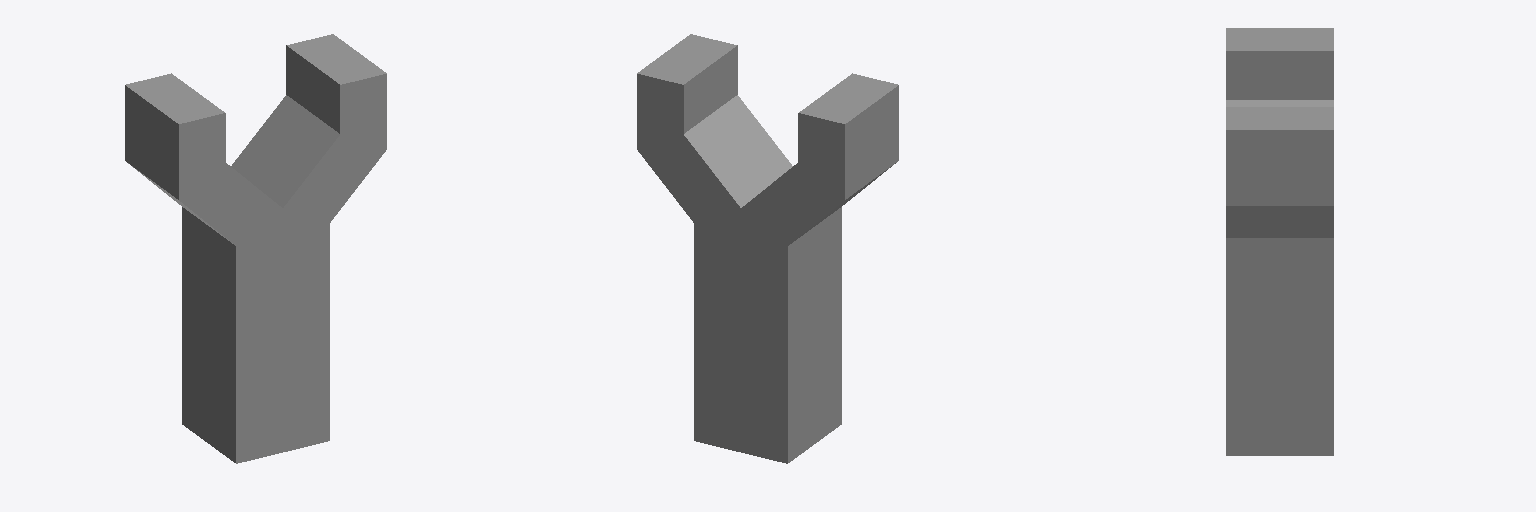
The model's file is plantBlend.obj.
3 renders of one model, left to right at view 1: azimuth 30°, elevation 25°; view 2: azimuth 150°, elevation 25°; view 3: azimuth 270°, elevation 25°, orthographic.
Visible parts, largest first — view 1: Cube; view 2: Cube; view 3: Cube.
Boxes of the visible parts, <box> form: Cube: <box>125,34,386,463</box>; Cube: <box>637,34,898,463</box>; Cube: <box>1226,28,1333,455</box>.
Size of the model in its own units: 4.45 by 7.22 by 2.